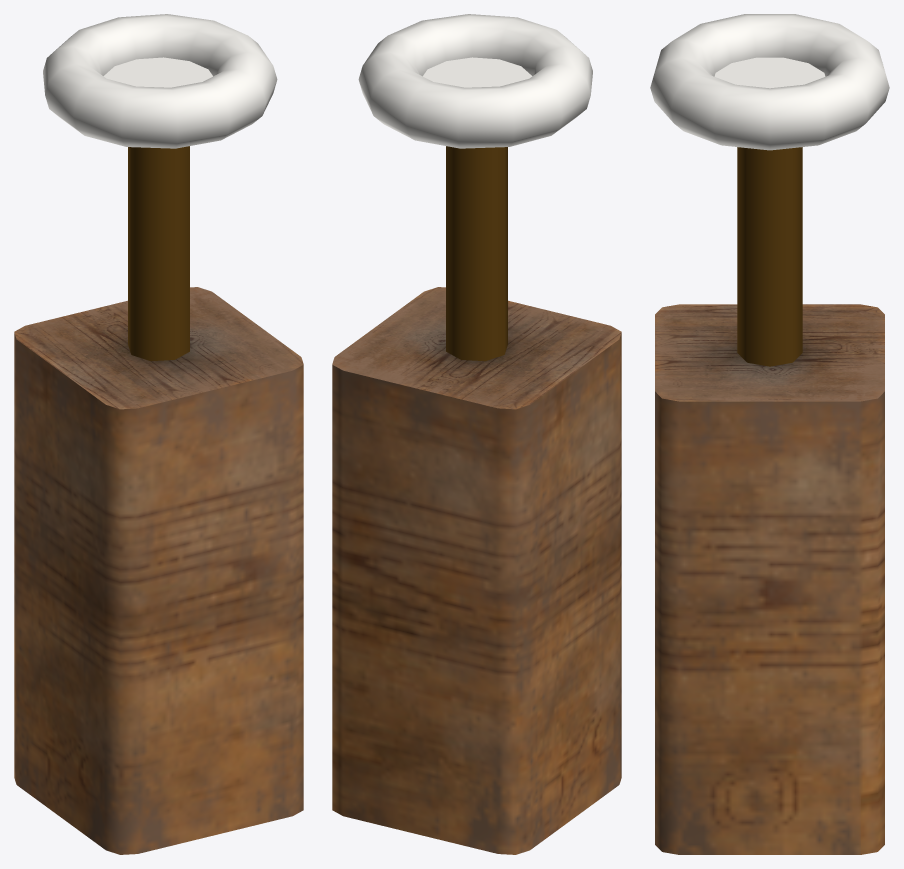
The model's file is TeslaCoil.fbx.
3 views of the same model, side by side, from view 1: azimuth 30°, elevation 25°; view 2: azimuth 150°, elevation 25°; view 3: azimuth 270°, elevation 25° (orthographic).
Parts seen in each view (by area): view 1: mesh; view 2: mesh; view 3: mesh.
Boxes of the visible parts, <box> form: mesh: <box>14,14,303,854</box>; mesh: <box>332,14,621,854</box>; mesh: <box>650,14,889,854</box>.
Size of what is drawn, in the model's own units: 952 by 3327 by 959.
1 material, 1 textured.
